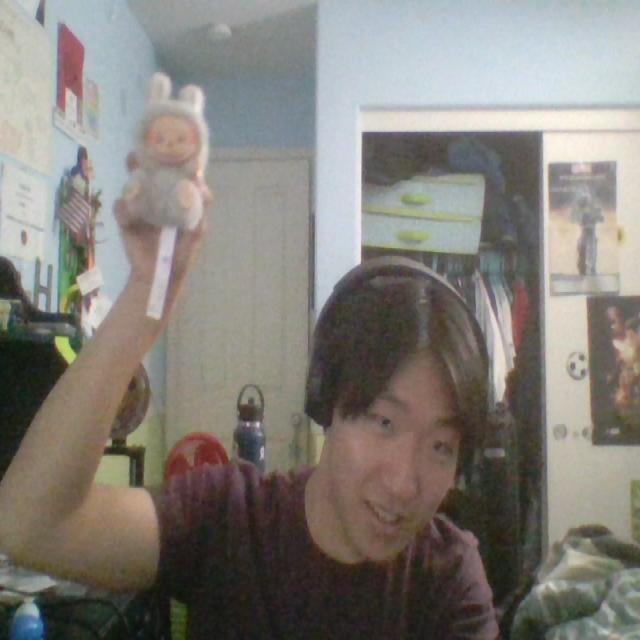labubu: (123, 73, 209, 229)
